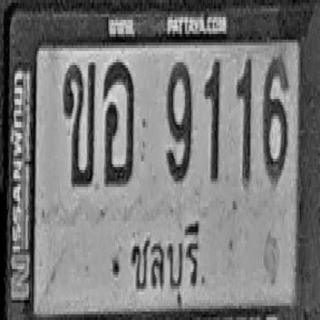A02: (63, 61, 95, 185)
A43: (103, 60, 134, 184)
N01: (204, 59, 220, 181), (236, 56, 251, 184)
N06: (263, 55, 288, 183)
N09: (166, 59, 192, 181)
